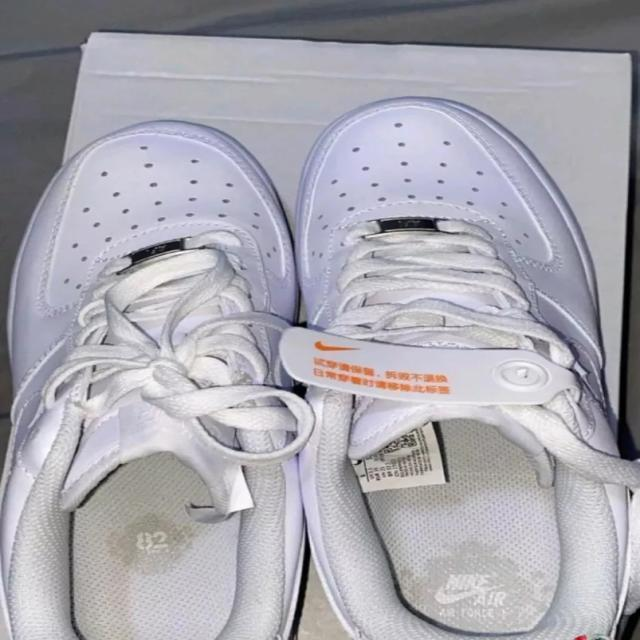nike fake air force: (291, 96, 640, 640), (0, 11, 299, 640)
